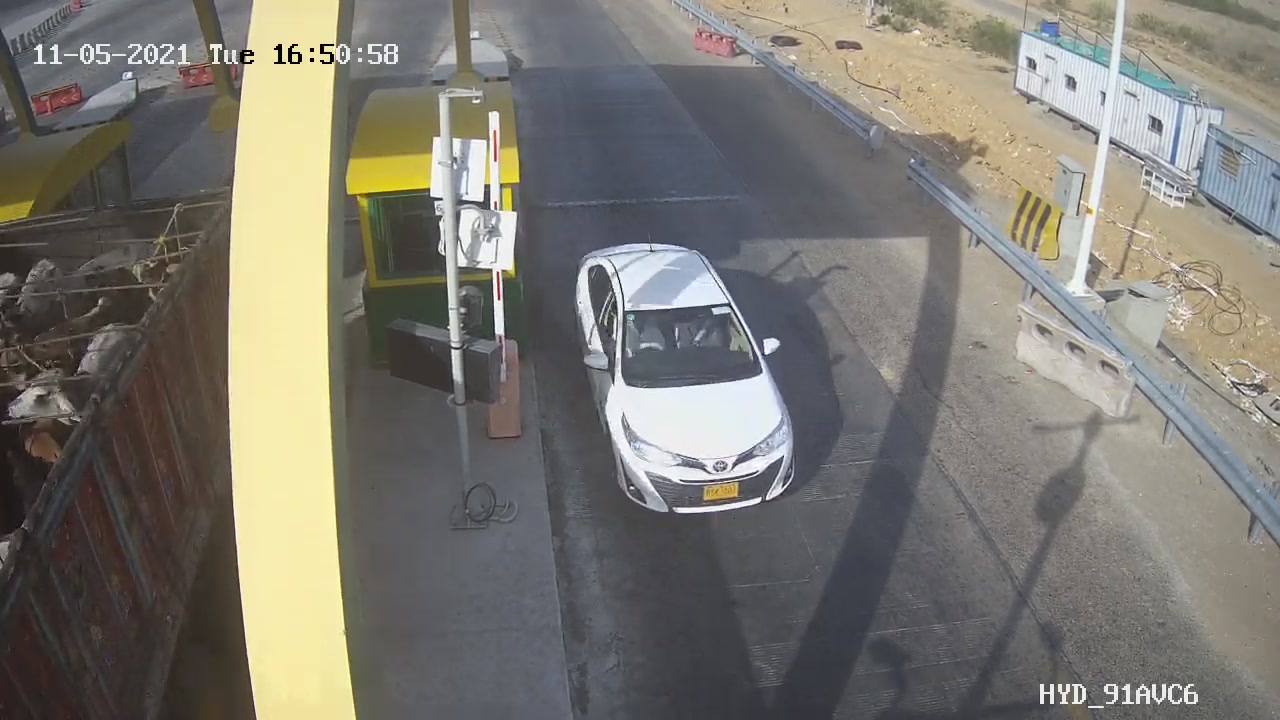F1: (556, 222, 822, 531)
